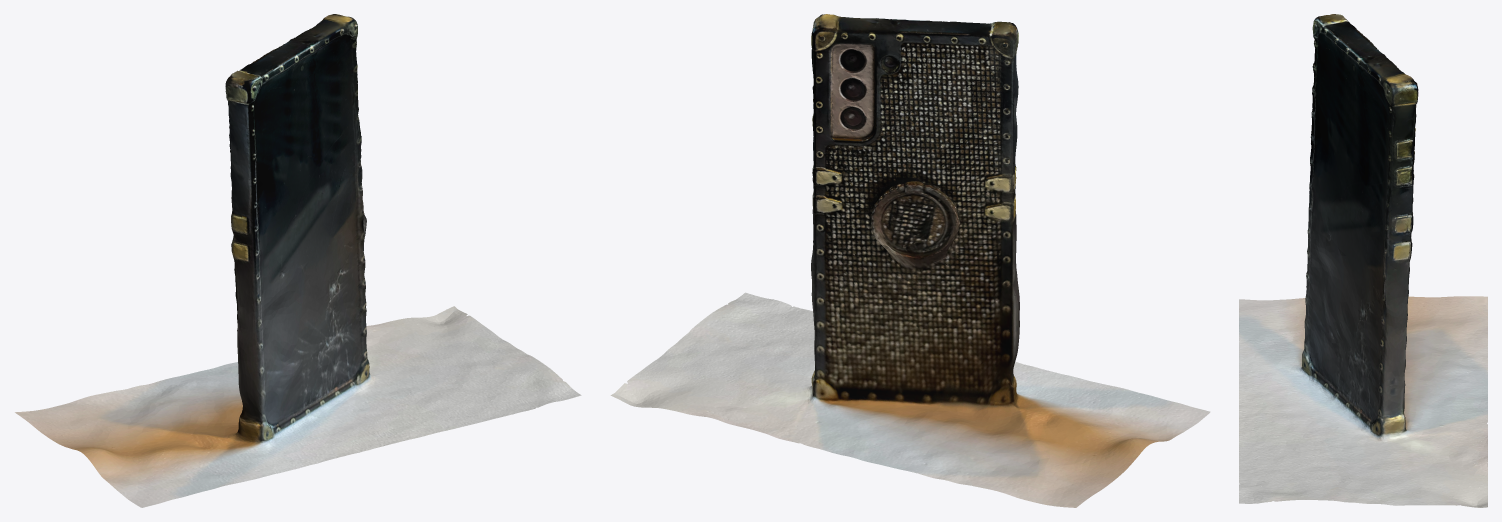
File: Addis_S.glb
The picture shows the model from 3 angles, left to right: view 1: azimuth 30°, elevation 25°; view 2: azimuth 150°, elevation 25°; view 3: azimuth 270°, elevation 25°; orthographic projection. The views are drawn at different scales.
Size of the model in its own units: 0.995 by 0.796 by 0.4993.
Materials: 1 (1 with a texture image).
